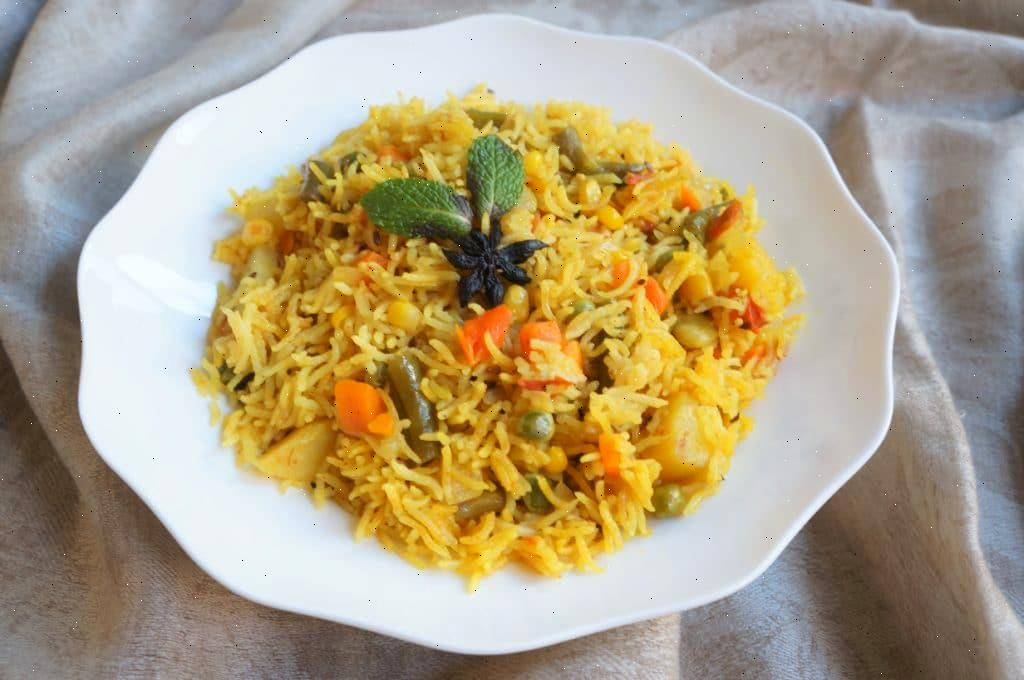veg-pulao: (257, 109, 742, 535)
